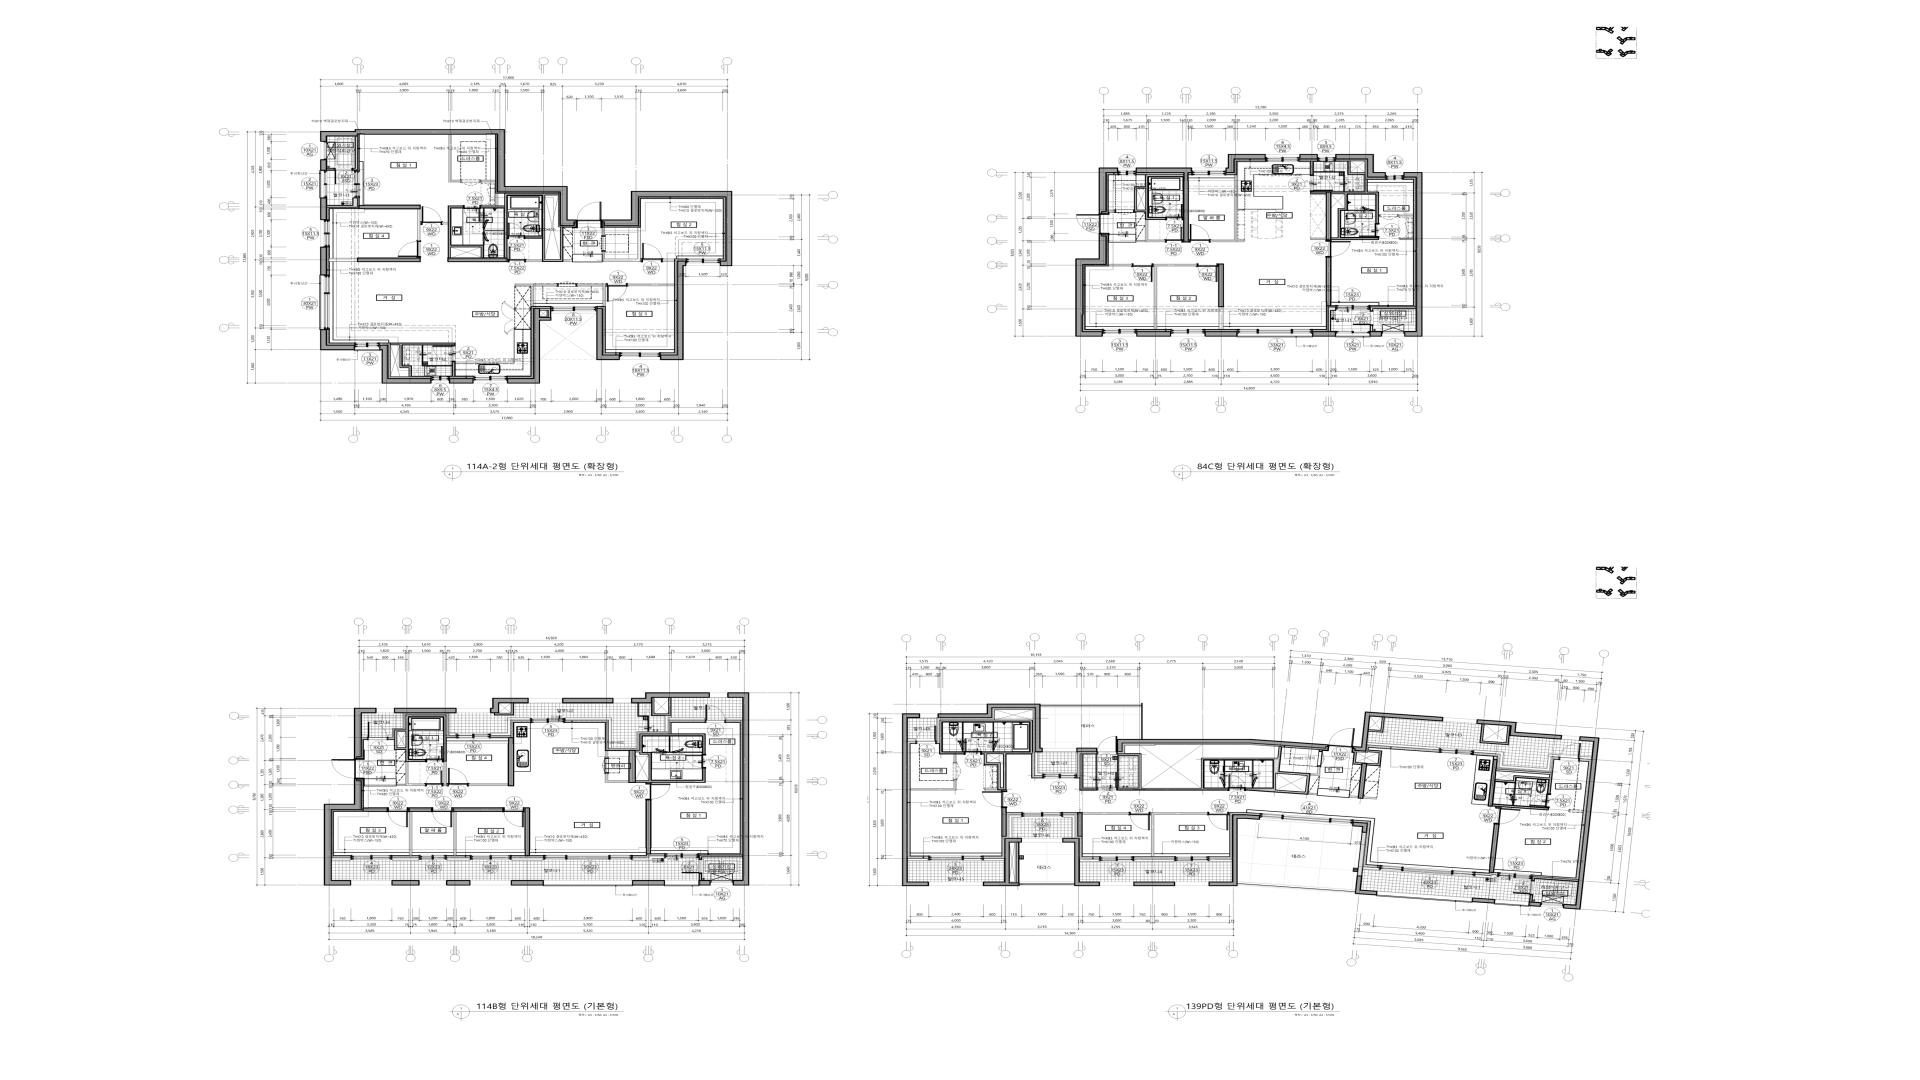door: (1328, 727, 1356, 753), (331, 758, 364, 779), (576, 202, 601, 228), (1076, 214, 1109, 233), (1494, 807, 1520, 825), (431, 807, 454, 828), (1325, 240, 1352, 257), (1559, 742, 1581, 762), (502, 807, 525, 827), (386, 807, 409, 827), (645, 783, 670, 800), (982, 791, 1007, 808), (447, 767, 468, 787), (367, 721, 388, 741), (641, 243, 662, 262), (1188, 224, 1211, 243), (1129, 812, 1151, 831), (605, 284, 628, 302), (1309, 174, 1333, 191), (1133, 264, 1154, 282), (1208, 812, 1229, 831), (915, 725, 936, 744), (1197, 264, 1218, 282), (421, 207, 442, 225), (1097, 736, 1117, 754), (1097, 773, 1117, 791), (705, 704, 725, 723), (1513, 880, 1535, 895), (433, 345, 455, 361), (398, 241, 421, 257), (682, 858, 703, 874), (1530, 793, 1552, 807), (964, 738, 982, 756), (686, 754, 707, 769), (1353, 311, 1374, 326), (335, 167, 352, 185), (1228, 775, 1246, 791), (508, 247, 526, 262), (463, 206, 481, 222), (1360, 223, 1379, 237), (1166, 227, 1183, 243), (1166, 204, 1183, 220), (426, 746, 443, 762), (426, 771, 443, 787), (508, 223, 525, 239), (460, 179, 481, 186), (953, 762, 961, 779), (1379, 214, 1399, 220), (601, 758, 609, 773), (1114, 210, 1134, 215), (558, 281, 576, 286)
wall: (320, 129, 576, 225), (1117, 746, 1320, 795), (601, 191, 732, 266), (939, 720, 1033, 790), (1563, 736, 1600, 910), (481, 194, 572, 262), (938, 704, 1043, 753), (902, 713, 930, 886), (1135, 167, 1192, 243), (728, 692, 749, 886), (323, 779, 361, 886), (394, 715, 447, 786), (1209, 815, 1261, 886), (1353, 712, 1444, 752), (1040, 704, 1143, 738), (636, 733, 705, 783), (506, 309, 551, 384), (1134, 175, 1183, 243), (1403, 171, 1423, 336), (1075, 233, 1106, 336), (1332, 179, 1379, 240), (1154, 264, 1197, 330), (1117, 738, 1328, 752), (659, 261, 686, 360), (1151, 812, 1208, 857), (1017, 843, 1075, 886), (1211, 175, 1245, 243), (390, 343, 455, 377), (442, 206, 484, 257), (380, 345, 431, 384), (982, 837, 1022, 886), (651, 698, 705, 732), (1474, 750, 1560, 771), (1063, 837, 1100, 886), (1477, 720, 1563, 740), (564, 717, 612, 749), (1495, 769, 1553, 794), (1238, 882, 1356, 894), (603, 228, 641, 262), (596, 309, 620, 360), (1336, 154, 1386, 178), (353, 708, 376, 758), (1357, 832, 1379, 876), (514, 284, 558, 306), (1098, 167, 1118, 214), (630, 692, 709, 703), (1225, 154, 1266, 173), (491, 717, 530, 736), (320, 330, 355, 351), (1480, 724, 1511, 745), (576, 284, 605, 306), (1080, 754, 1097, 791), (489, 698, 529, 713), (1367, 742, 1440, 750), (448, 135, 460, 182), (1487, 756, 1498, 807), (1489, 824, 1499, 873), (910, 779, 956, 790), (1493, 803, 1549, 811), (1356, 876, 1378, 895), (1358, 762, 1367, 799), (357, 257, 421, 262), (394, 708, 456, 713), (359, 204, 421, 210), (1325, 191, 1332, 240), (508, 737, 514, 786), (1325, 257, 1332, 306), (447, 257, 508, 262), (1009, 815, 1022, 837), (646, 800, 651, 855), (327, 198, 357, 207), (562, 698, 613, 703), (1063, 815, 1075, 837), (495, 703, 514, 716), (525, 807, 530, 856), (454, 807, 502, 812), (1369, 717, 1385, 733), (1532, 877, 1578, 882), (1218, 264, 1224, 307), (1367, 750, 1382, 766), (1348, 161, 1365, 174), (629, 750, 636, 783), (632, 880, 665, 886), (605, 774, 628, 783), (1001, 808, 1007, 837), (320, 247, 327, 276), (1353, 822, 1369, 833), (1328, 307, 1336, 331), (392, 880, 419, 886), (1370, 307, 1416, 311), (1137, 331, 1171, 336), (1035, 753, 1043, 775), (510, 881, 543, 886), (1205, 331, 1238, 336), (352, 137, 357, 170), (699, 855, 742, 858), (409, 812, 413, 856), (633, 856, 665, 861), (1134, 858, 1175, 862), (1134, 882, 1175, 886), (320, 198, 327, 220), (446, 881, 471, 886), (1077, 812, 1083, 837), (448, 378, 473, 384), (363, 807, 386, 812), (1472, 898, 1495, 903), (1312, 331, 1336, 336), (1083, 812, 1129, 815), (1353, 752, 1362, 765), (628, 284, 674, 286), (1218, 307, 1224, 330), (409, 807, 431, 812), (454, 812, 456, 856), (328, 258, 357, 262), (1076, 748, 1097, 753), (468, 783, 508, 786), (1299, 154, 1317, 160), (1209, 858, 1232, 862), (1476, 874, 1498, 878), (512, 858, 543, 861), (541, 309, 551, 316), (418, 210, 421, 241), (1080, 858, 1100, 862), (699, 880, 711, 886), (320, 160, 327, 171), (451, 363, 456, 377), (392, 858, 419, 861), (1528, 902, 1542, 907), (1109, 264, 1133, 266), (1370, 331, 1382, 336), (447, 858, 469, 861), (907, 858, 928, 861), (984, 858, 1004, 861), (332, 858, 351, 861), (1580, 756, 1592, 760), (662, 258, 674, 262), (725, 717, 742, 720), (1311, 191, 1325, 194), (1311, 237, 1325, 240), (1311, 161, 1313, 174), (1364, 796, 1377, 799), (496, 194, 498, 206), (1530, 895, 1534, 902), (1349, 795, 1358, 798), (699, 874, 703, 880), (953, 754, 956, 762), (603, 228, 605, 236), (514, 785, 530, 786), (1399, 215, 1414, 216), (1399, 239, 1414, 240), (481, 181, 496, 182), (909, 738, 915, 741), (450, 733, 456, 736), (605, 752, 608, 758), (327, 167, 334, 170), (361, 735, 367, 737), (388, 735, 393, 737), (1109, 210, 1114, 212), (1370, 326, 1373, 331)
window: (1379, 865, 1476, 877), (1377, 891, 1472, 903), (1261, 814, 1353, 825), (1238, 328, 1312, 338), (319, 276, 330, 330), (543, 855, 633, 860), (545, 881, 632, 886), (551, 306, 596, 314), (620, 352, 659, 360), (928, 856, 984, 861), (1439, 748, 1474, 756), (1102, 328, 1137, 336), (1498, 872, 1532, 880), (686, 258, 720, 266), (1192, 167, 1225, 175), (1171, 328, 1204, 336), (1266, 154, 1299, 162), (1495, 899, 1528, 907), (473, 376, 506, 384), (320, 220, 330, 247), (1336, 331, 1370, 338), (1443, 717, 1477, 724), (1175, 856, 1209, 862), (1100, 856, 1134, 862), (469, 855, 512, 860), (352, 170, 360, 198), (1022, 812, 1063, 818), (351, 855, 392, 860), (930, 882, 982, 886), (319, 171, 327, 198), (355, 343, 380, 351), (1336, 305, 1370, 310), (1043, 773, 1077, 778), (665, 881, 699, 886), (665, 853, 699, 858), (456, 733, 491, 738), (456, 708, 489, 713), (1022, 839, 1063, 843), (351, 881, 392, 885), (471, 881, 510, 885), (1542, 902, 1564, 909), (1317, 154, 1336, 162), (419, 855, 447, 860), (1118, 167, 1135, 175), (530, 719, 564, 723), (431, 376, 448, 384), (1175, 882, 1208, 886), (1100, 882, 1133, 886), (1043, 748, 1076, 752), (529, 699, 562, 703), (1382, 331, 1404, 336), (711, 880, 733, 885), (320, 142, 327, 160), (419, 881, 446, 885), (1561, 736, 1580, 741), (1386, 175, 1403, 181), (709, 692, 727, 698), (377, 708, 394, 713), (920, 713, 938, 717), (613, 699, 630, 703)
